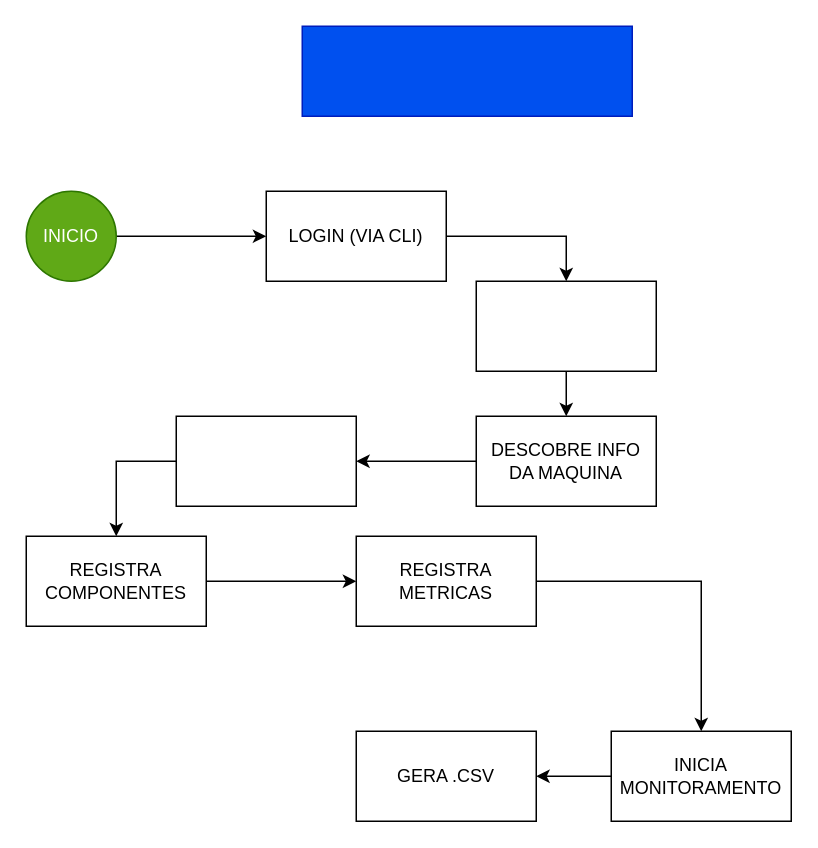
Some shapes in this 818 by 848 pixel diagram are drawn without their labels. Each missing label, with the box of its shape:
Agente de Captura (Python): (301, 25, 632, 116)
AUTH VIA WEB-DATA-VIZ: (475, 280, 656, 371)
REGISTRA SERVIDOR NO MYSQL: (175, 415, 356, 506)
